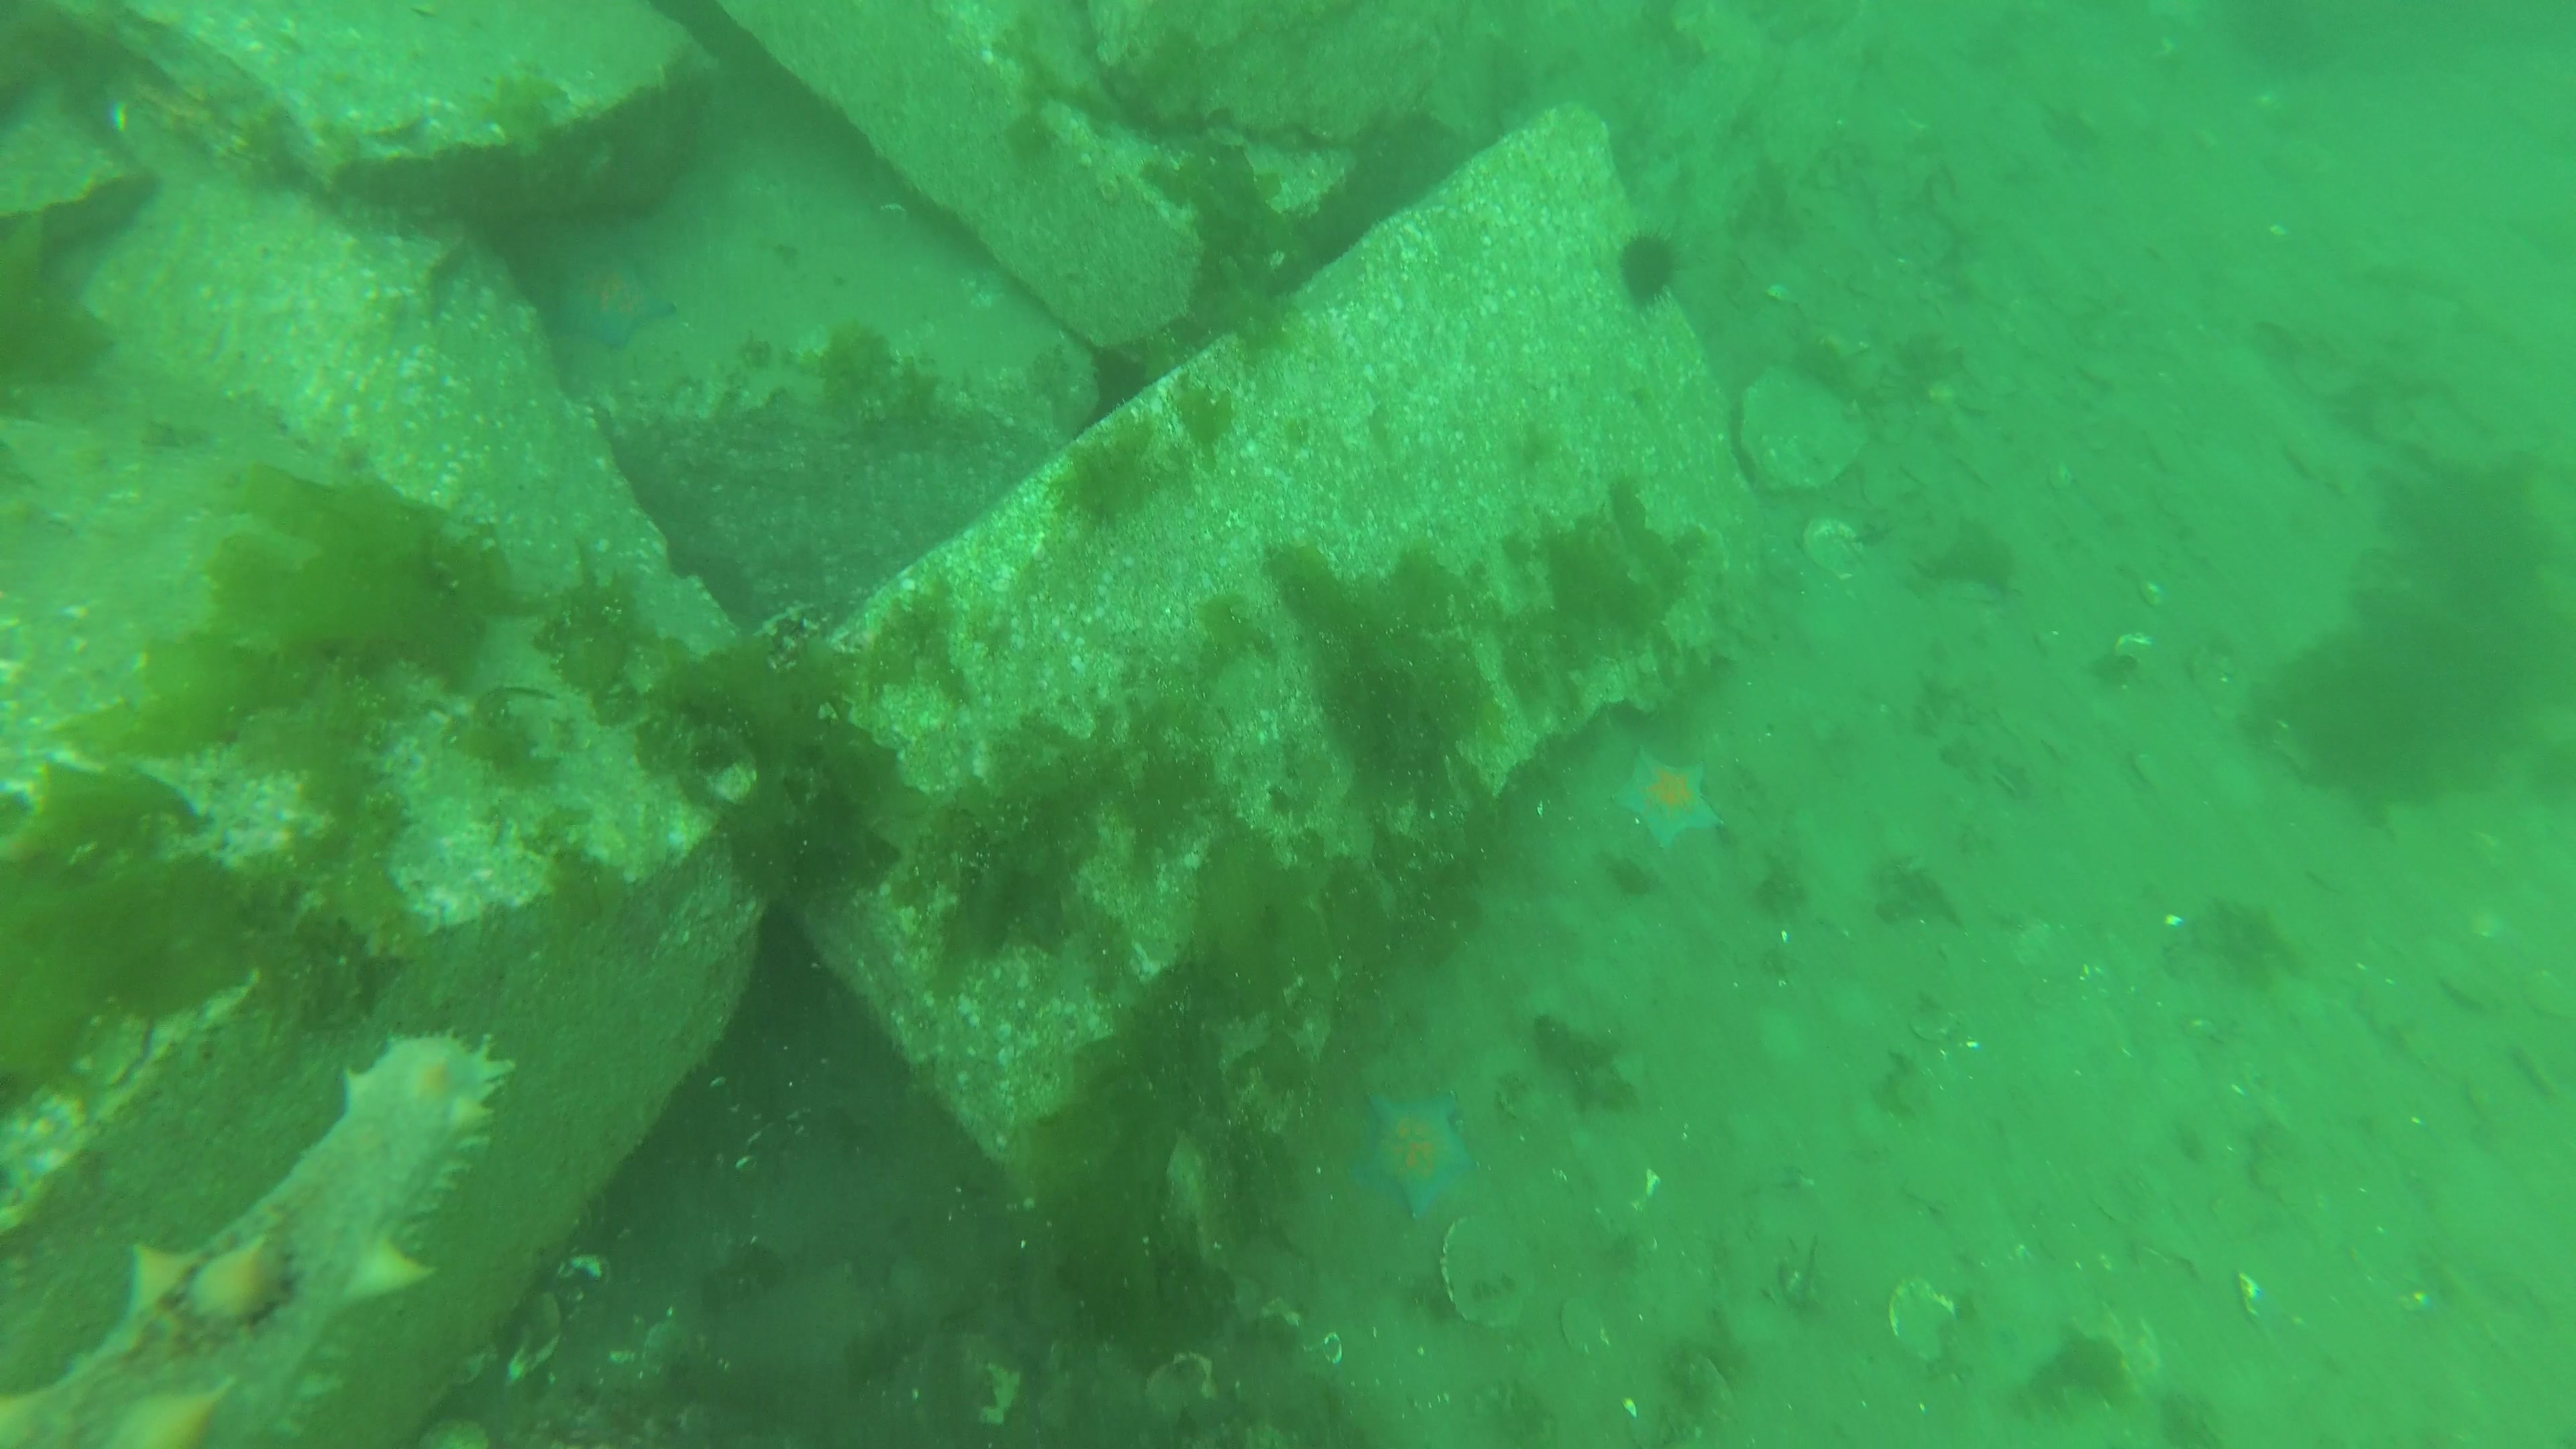echinus: (1617, 221, 1679, 308)
holothurian: (0, 1021, 522, 1449)
scallop: (1440, 1210, 1537, 1332), (1886, 1272, 1960, 1364), (1803, 511, 1870, 582)
starfish: (1361, 1081, 1479, 1224), (541, 251, 681, 347), (1610, 741, 1727, 853)
